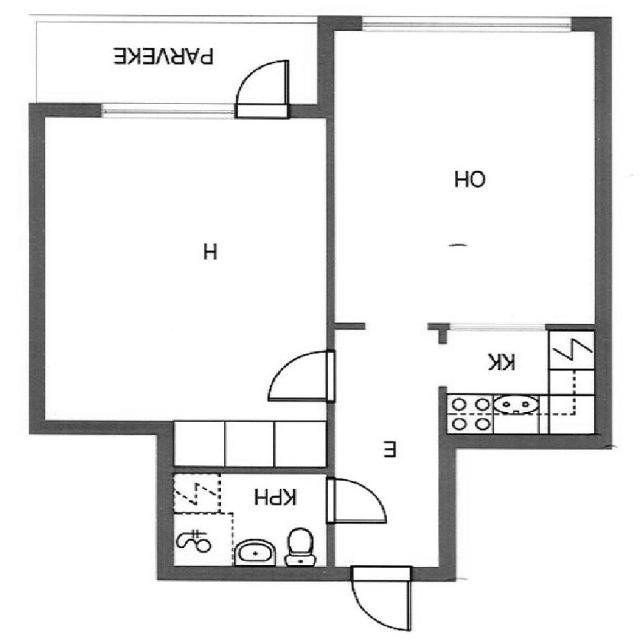door: (350, 570, 415, 637), (267, 346, 333, 400), (328, 475, 390, 525), (234, 57, 290, 107)
window: (361, 12, 580, 32), (100, 100, 236, 122), (447, 319, 548, 336), (360, 316, 434, 338)
zone: (44, 99, 323, 432), (333, 32, 600, 330), (330, 324, 448, 576), (439, 326, 599, 437), (162, 471, 332, 567)
